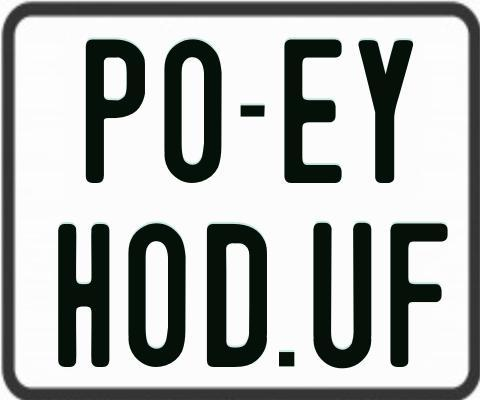0: (163, 36, 227, 182), (128, 221, 186, 365)
D: (204, 221, 264, 370)
E: (282, 39, 343, 188)
F: (389, 222, 448, 371)
H: (58, 224, 110, 370)
P: (84, 38, 147, 182)
U: (310, 223, 372, 374)
Y: (356, 40, 413, 185)
